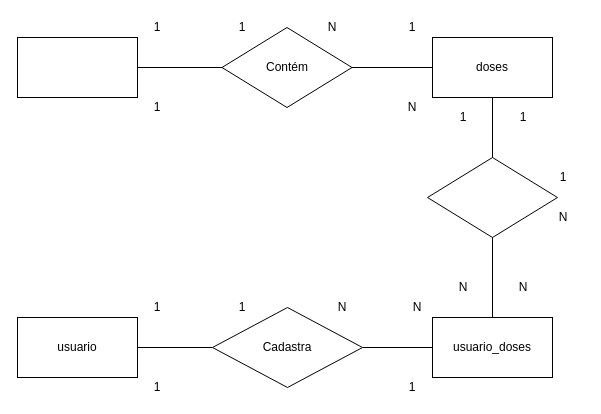
Image size: 601x414. Some labels were removed from this diagram. The shapes that lost their labels are listed below. From the top down, each one's centre as x and y in pixels, then its label:
At point 77,67: "vacinas".
At point 492,197: "Possui".
